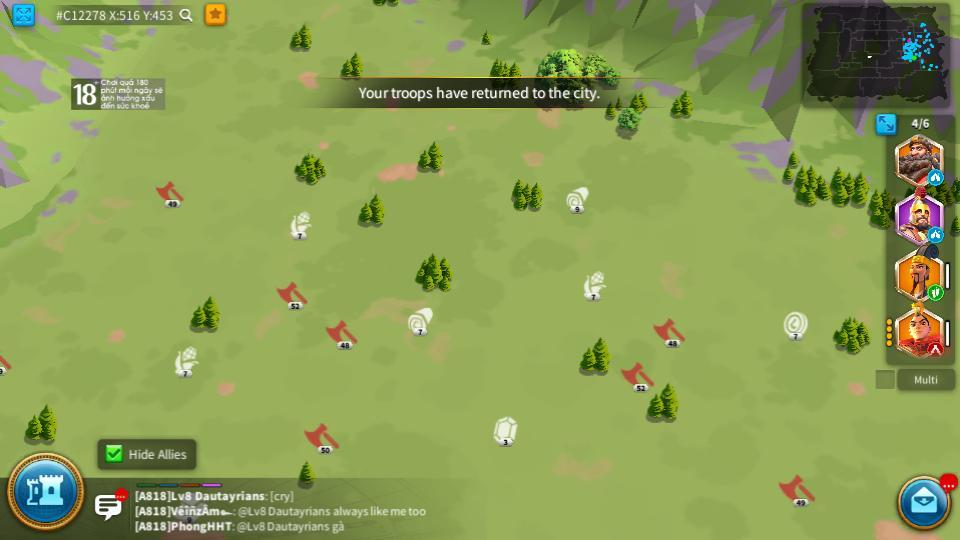gem-z-out: (491, 417, 518, 445)
march_attacking: (926, 343, 945, 356)
march_idle: (929, 228, 942, 240), (928, 172, 942, 183)
march_marching: (928, 287, 942, 299)
